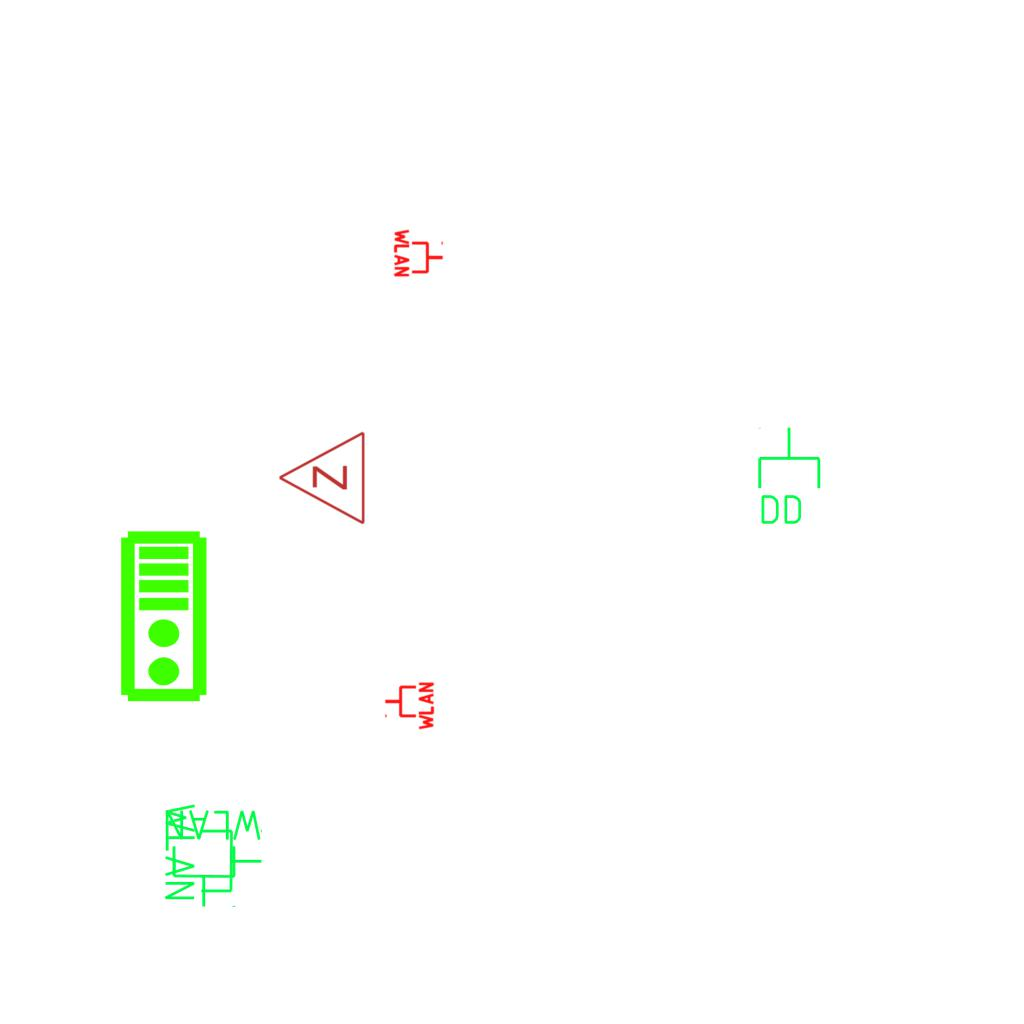Datenanschluss_zweifach: (754, 425, 823, 528)
Gegensprechanlage_mit_Video: (118, 529, 213, 705)
WLAN: (161, 799, 265, 904), (161, 806, 266, 910), (393, 227, 445, 279), (383, 680, 435, 732)
Zimmersignalleuchte: (272, 430, 372, 528)
